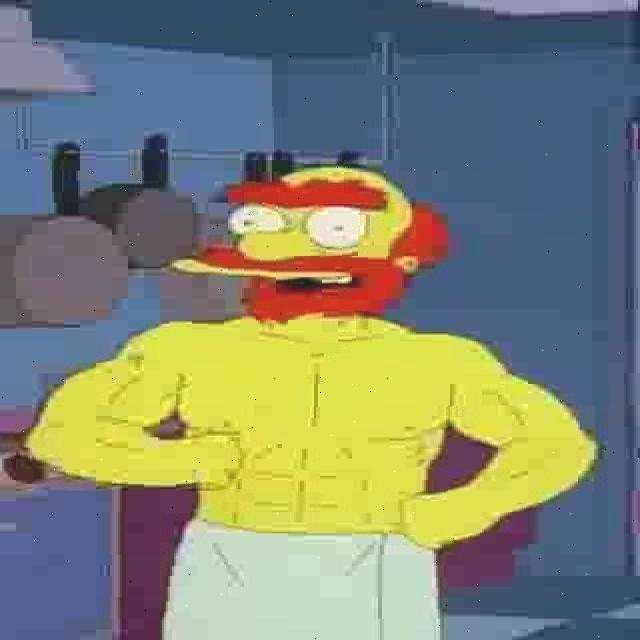Groundskeeper Willie: (165, 162, 455, 330)
